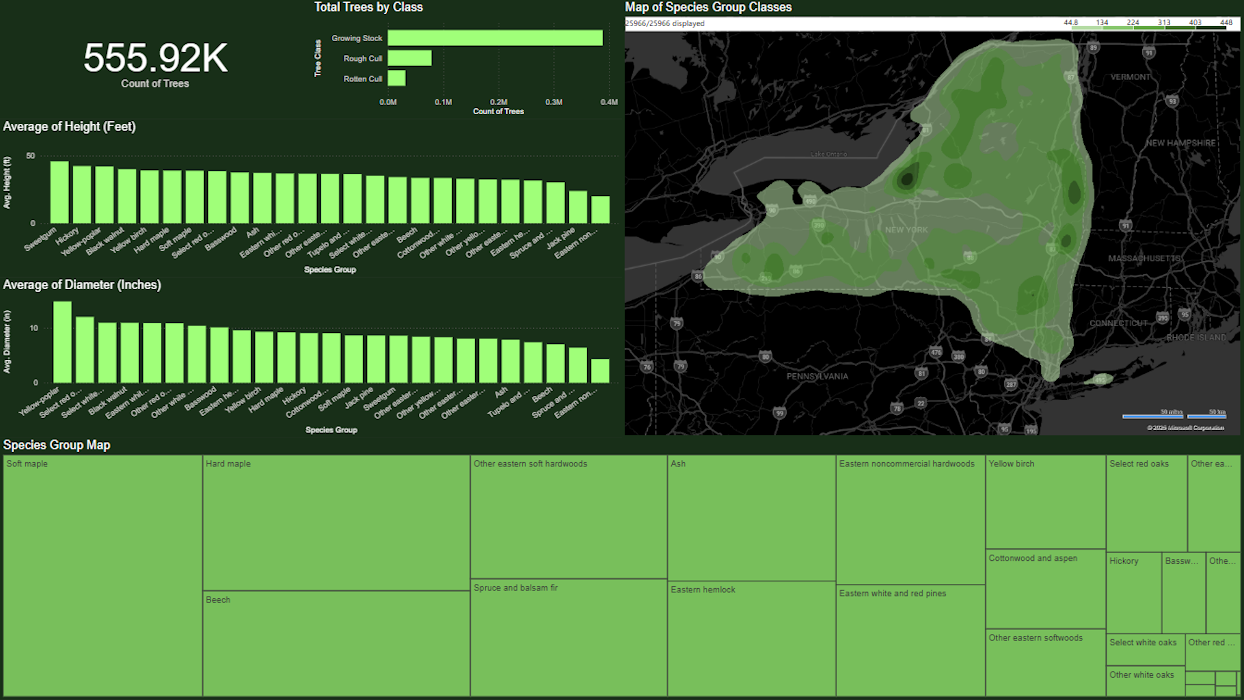

The page's visual inventory and layout, read from the dashboard file:
{"tool":"powerbi","page":{"name":"NY Tree Dashboard","canvas":[1920,1080],"ordinal":0},"visuals":[{"type":"treemap","title":"Species Group Map","fields":{"Values":["CountNonNull(NYTreeData.Trees)"],"Group":["NYTreeData.Species Group"]},"box":[0,675.7,1920,404.3],"z":0},{"type":"heatmapF244EA9EE1F34E828A80CF19B41976F8","title":"Map of Species Group Classes","fields":{"latitude":["NYTreeData.Latitude"],"longitude":["NYTreeData.Longitude"],"group":["NYTreeData.Species Group"]},"box":[960,0,960,675.7],"z":1000},{"type":"barChart","title":"Total Trees by Class","fields":{"Category":["NYTreeData.23_TreeClassCode"],"Y":["CountNonNull(NYTreeData.10_TreeId)"]},"box":[480,0,480,184.3],"z":2000},{"type":"card","fields":{"Values":["CountNonNull(NYTreeData.Trees)"]},"box":[0,0,480,184.3],"z":3000},{"type":"columnChart","title":"Average of Diameter (Inches)","fields":{"Category":["NYTreeData.Species Group"],"Y":["Avg(NYTreeData.Diameter (in))"]},"box":[0,428.6,960,247.1],"z":4000},{"type":"columnChart","title":"Average of Height (Feet)","fields":{"Category":["NYTreeData.Species Group"],"Y":["Avg(NYTreeData.Height (ft))"]},"box":[0,184.3,960,244.3],"z":5000}]}

Visuals, with their boxes in screenshot pixels (x1, y1, x2, y2), scaled from the page's 1920x1080 canvas onto the 1244x700 screenshot:
"Species Group Map" treemap: 0, 438, 1243, 699
"Map of Species Group Classes" heatmapF244EA9EE1F34E828A80CF19B41976F8: 622, 0, 1243, 438
"Total Trees by Class" barChart: 311, 0, 622, 119
card - CountNonNull(NYTreeData.Trees): 0, 0, 311, 119
"Average of Diameter (Inches)" columnChart: 0, 278, 622, 438
"Average of Height (Feet)" columnChart: 0, 119, 622, 278
